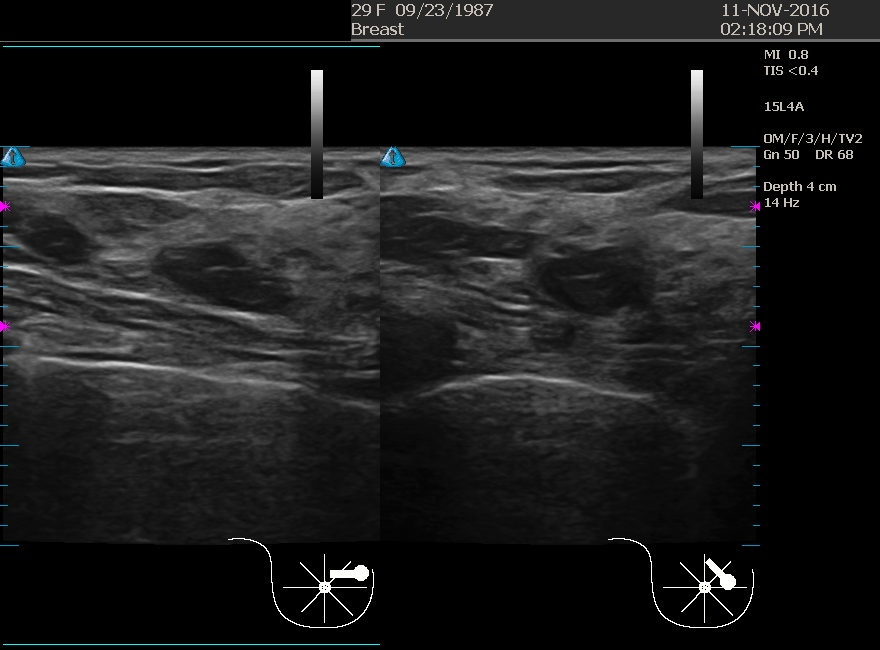BIRADS_3: (108, 176, 308, 376), (475, 183, 675, 383)
